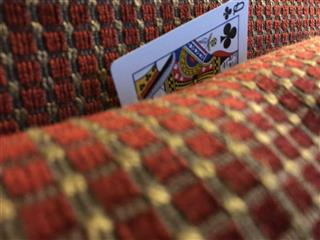QueenOfClubs: (109, 1, 248, 107)
